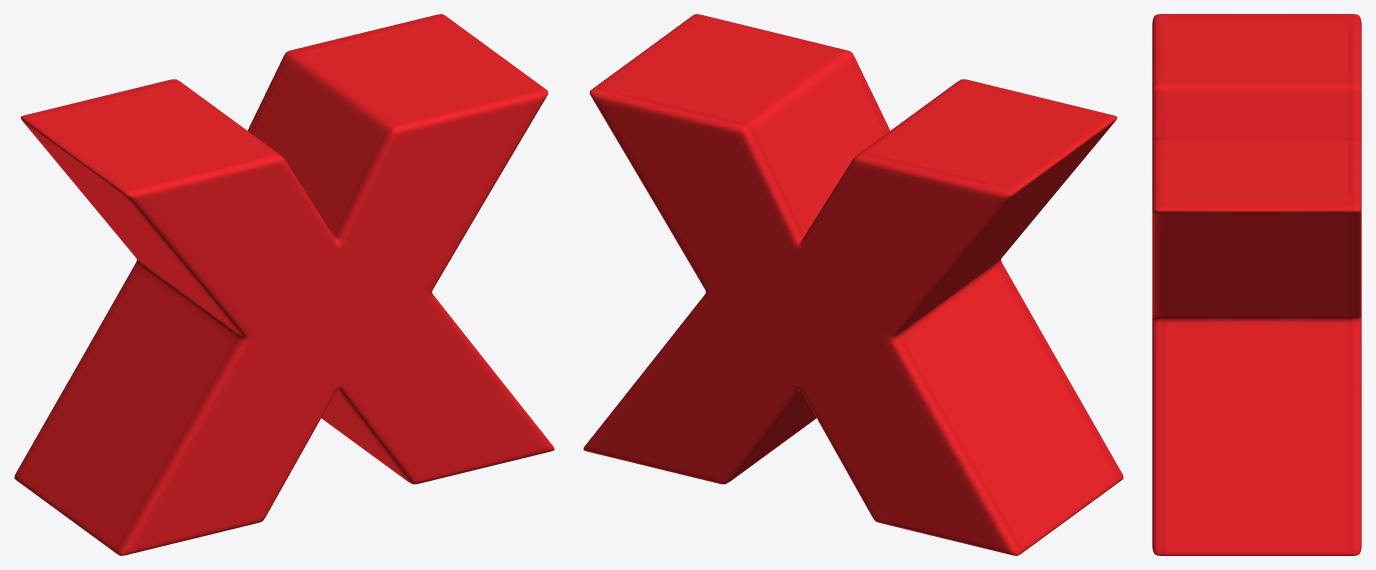
Rendered from cross.fbx.
3 views of the same model, side by side, from view 1: azimuth 30°, elevation 25°; view 2: azimuth 150°, elevation 25°; view 3: azimuth 270°, elevation 25° (orthographic). The views are drawn at different scales.
Parts seen in each view (by area): view 1: node_id32; view 2: node_id32; view 3: node_id32.
Part boxes in pixels (x1,y1,x2,y2): node_id32: [14, 14, 554, 555]; node_id32: [583, 14, 1123, 555]; node_id32: [1152, 14, 1361, 555].
Bounding box in the file's own units: 0.512 × 0.4074 × 0.2239.
1 material, 1 textured.
